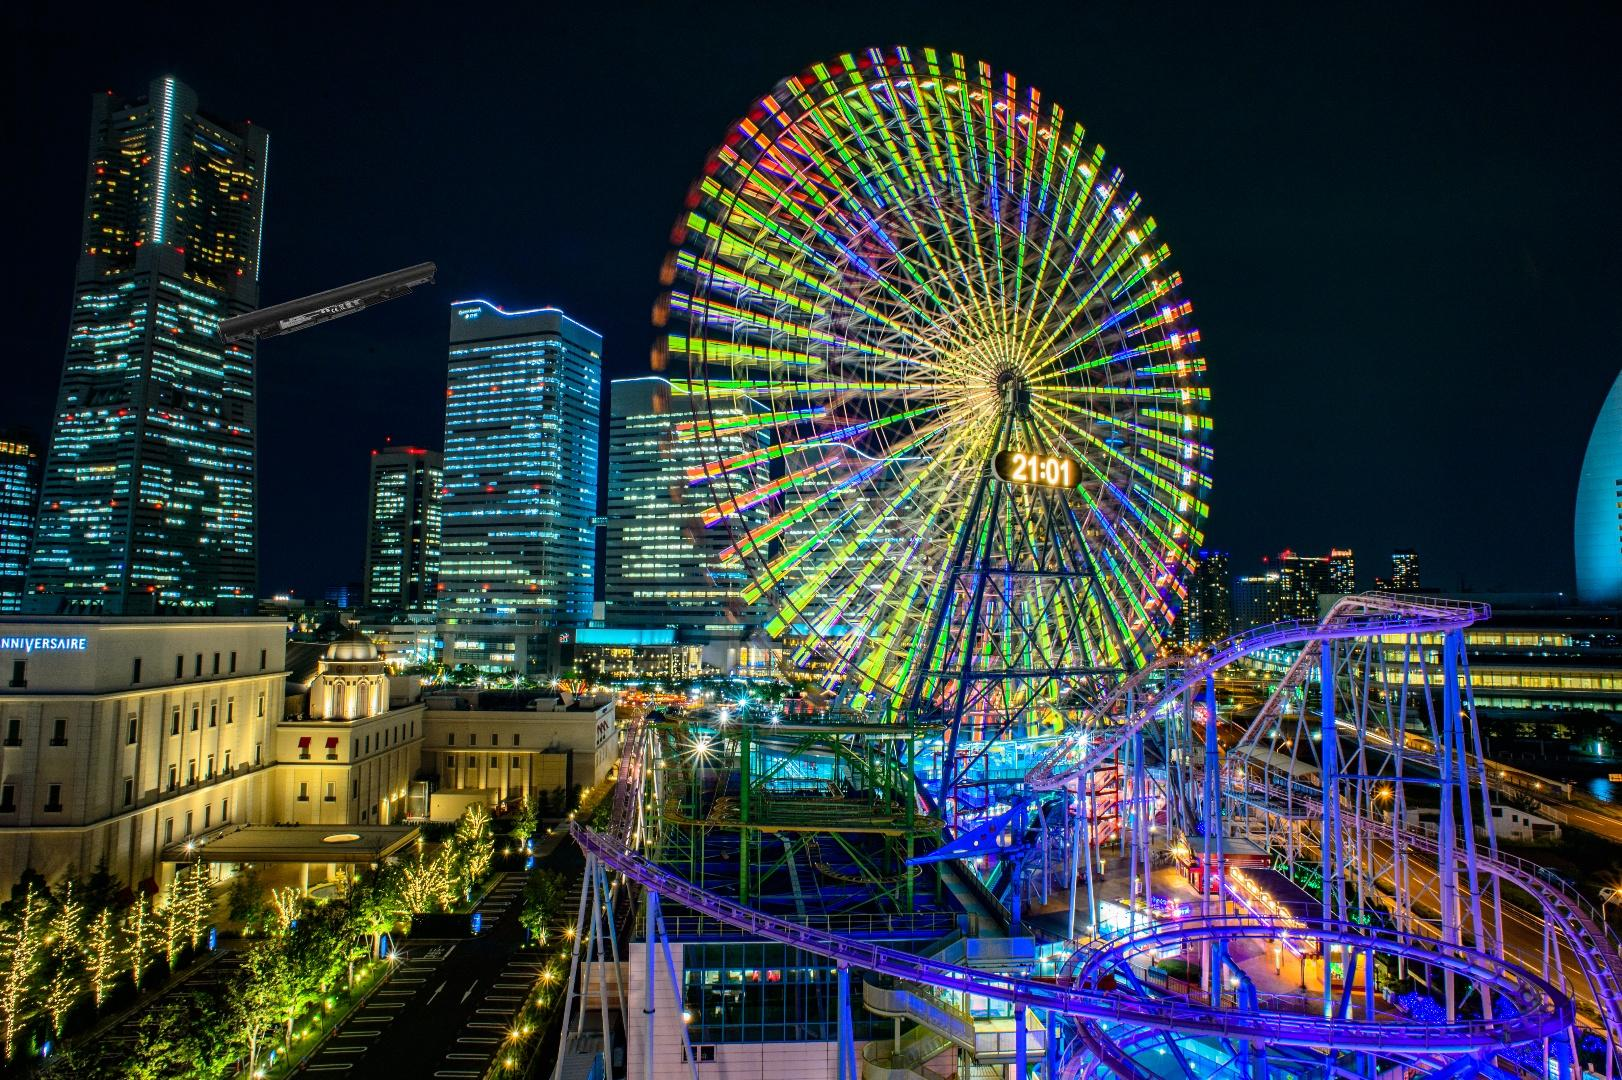battery: (214, 259, 440, 347)
